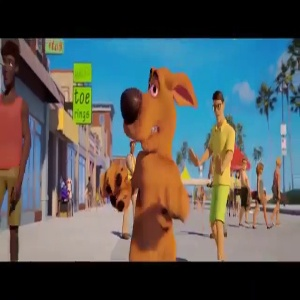Scooby: (110, 56, 195, 152)
